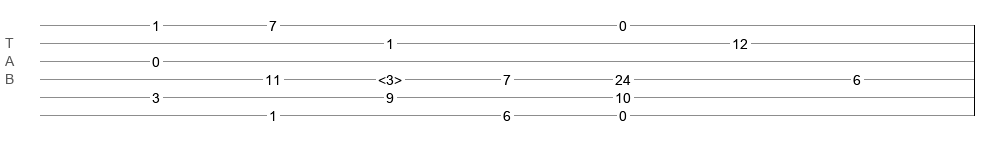0: (152, 54, 160, 64), (619, 108, 627, 118), (619, 18, 627, 28)
1: (152, 18, 160, 28), (269, 108, 277, 118), (386, 36, 394, 46)
10: (615, 90, 631, 100)
11: (265, 72, 281, 82)
12: (732, 36, 748, 46)
24: (615, 72, 631, 82)
3: (152, 90, 160, 100)
6: (503, 108, 511, 118), (853, 72, 861, 82)
7: (269, 18, 277, 28), (503, 72, 511, 82)
9: (386, 90, 394, 100)
harmonic: (378, 72, 402, 82)
